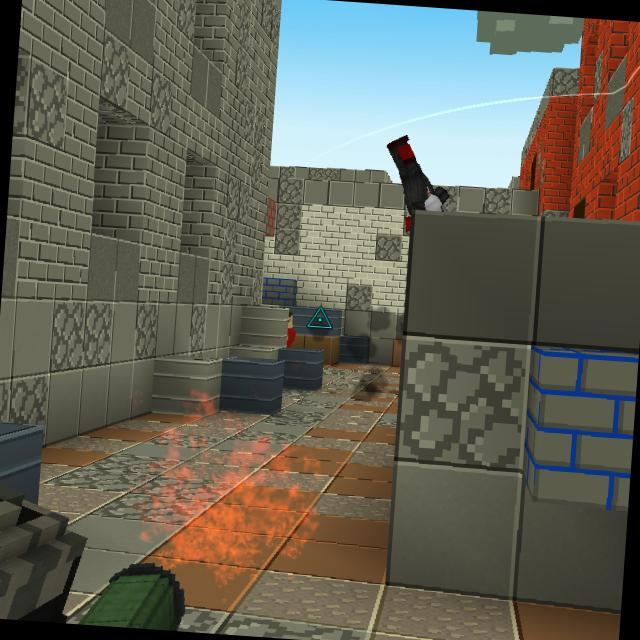enemy: (286, 310, 297, 348)
